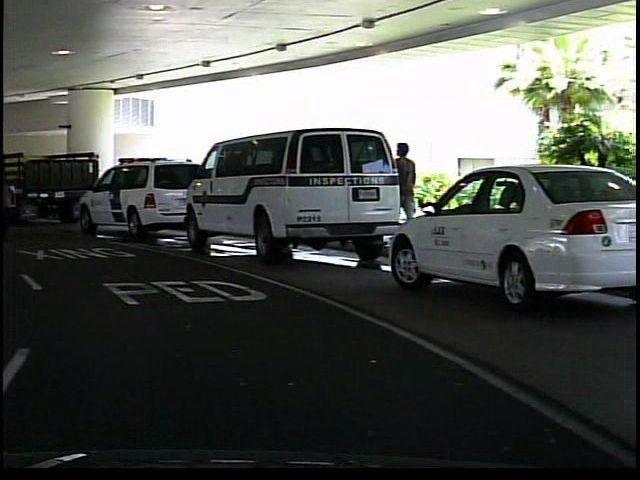person: (383, 138, 420, 251)
